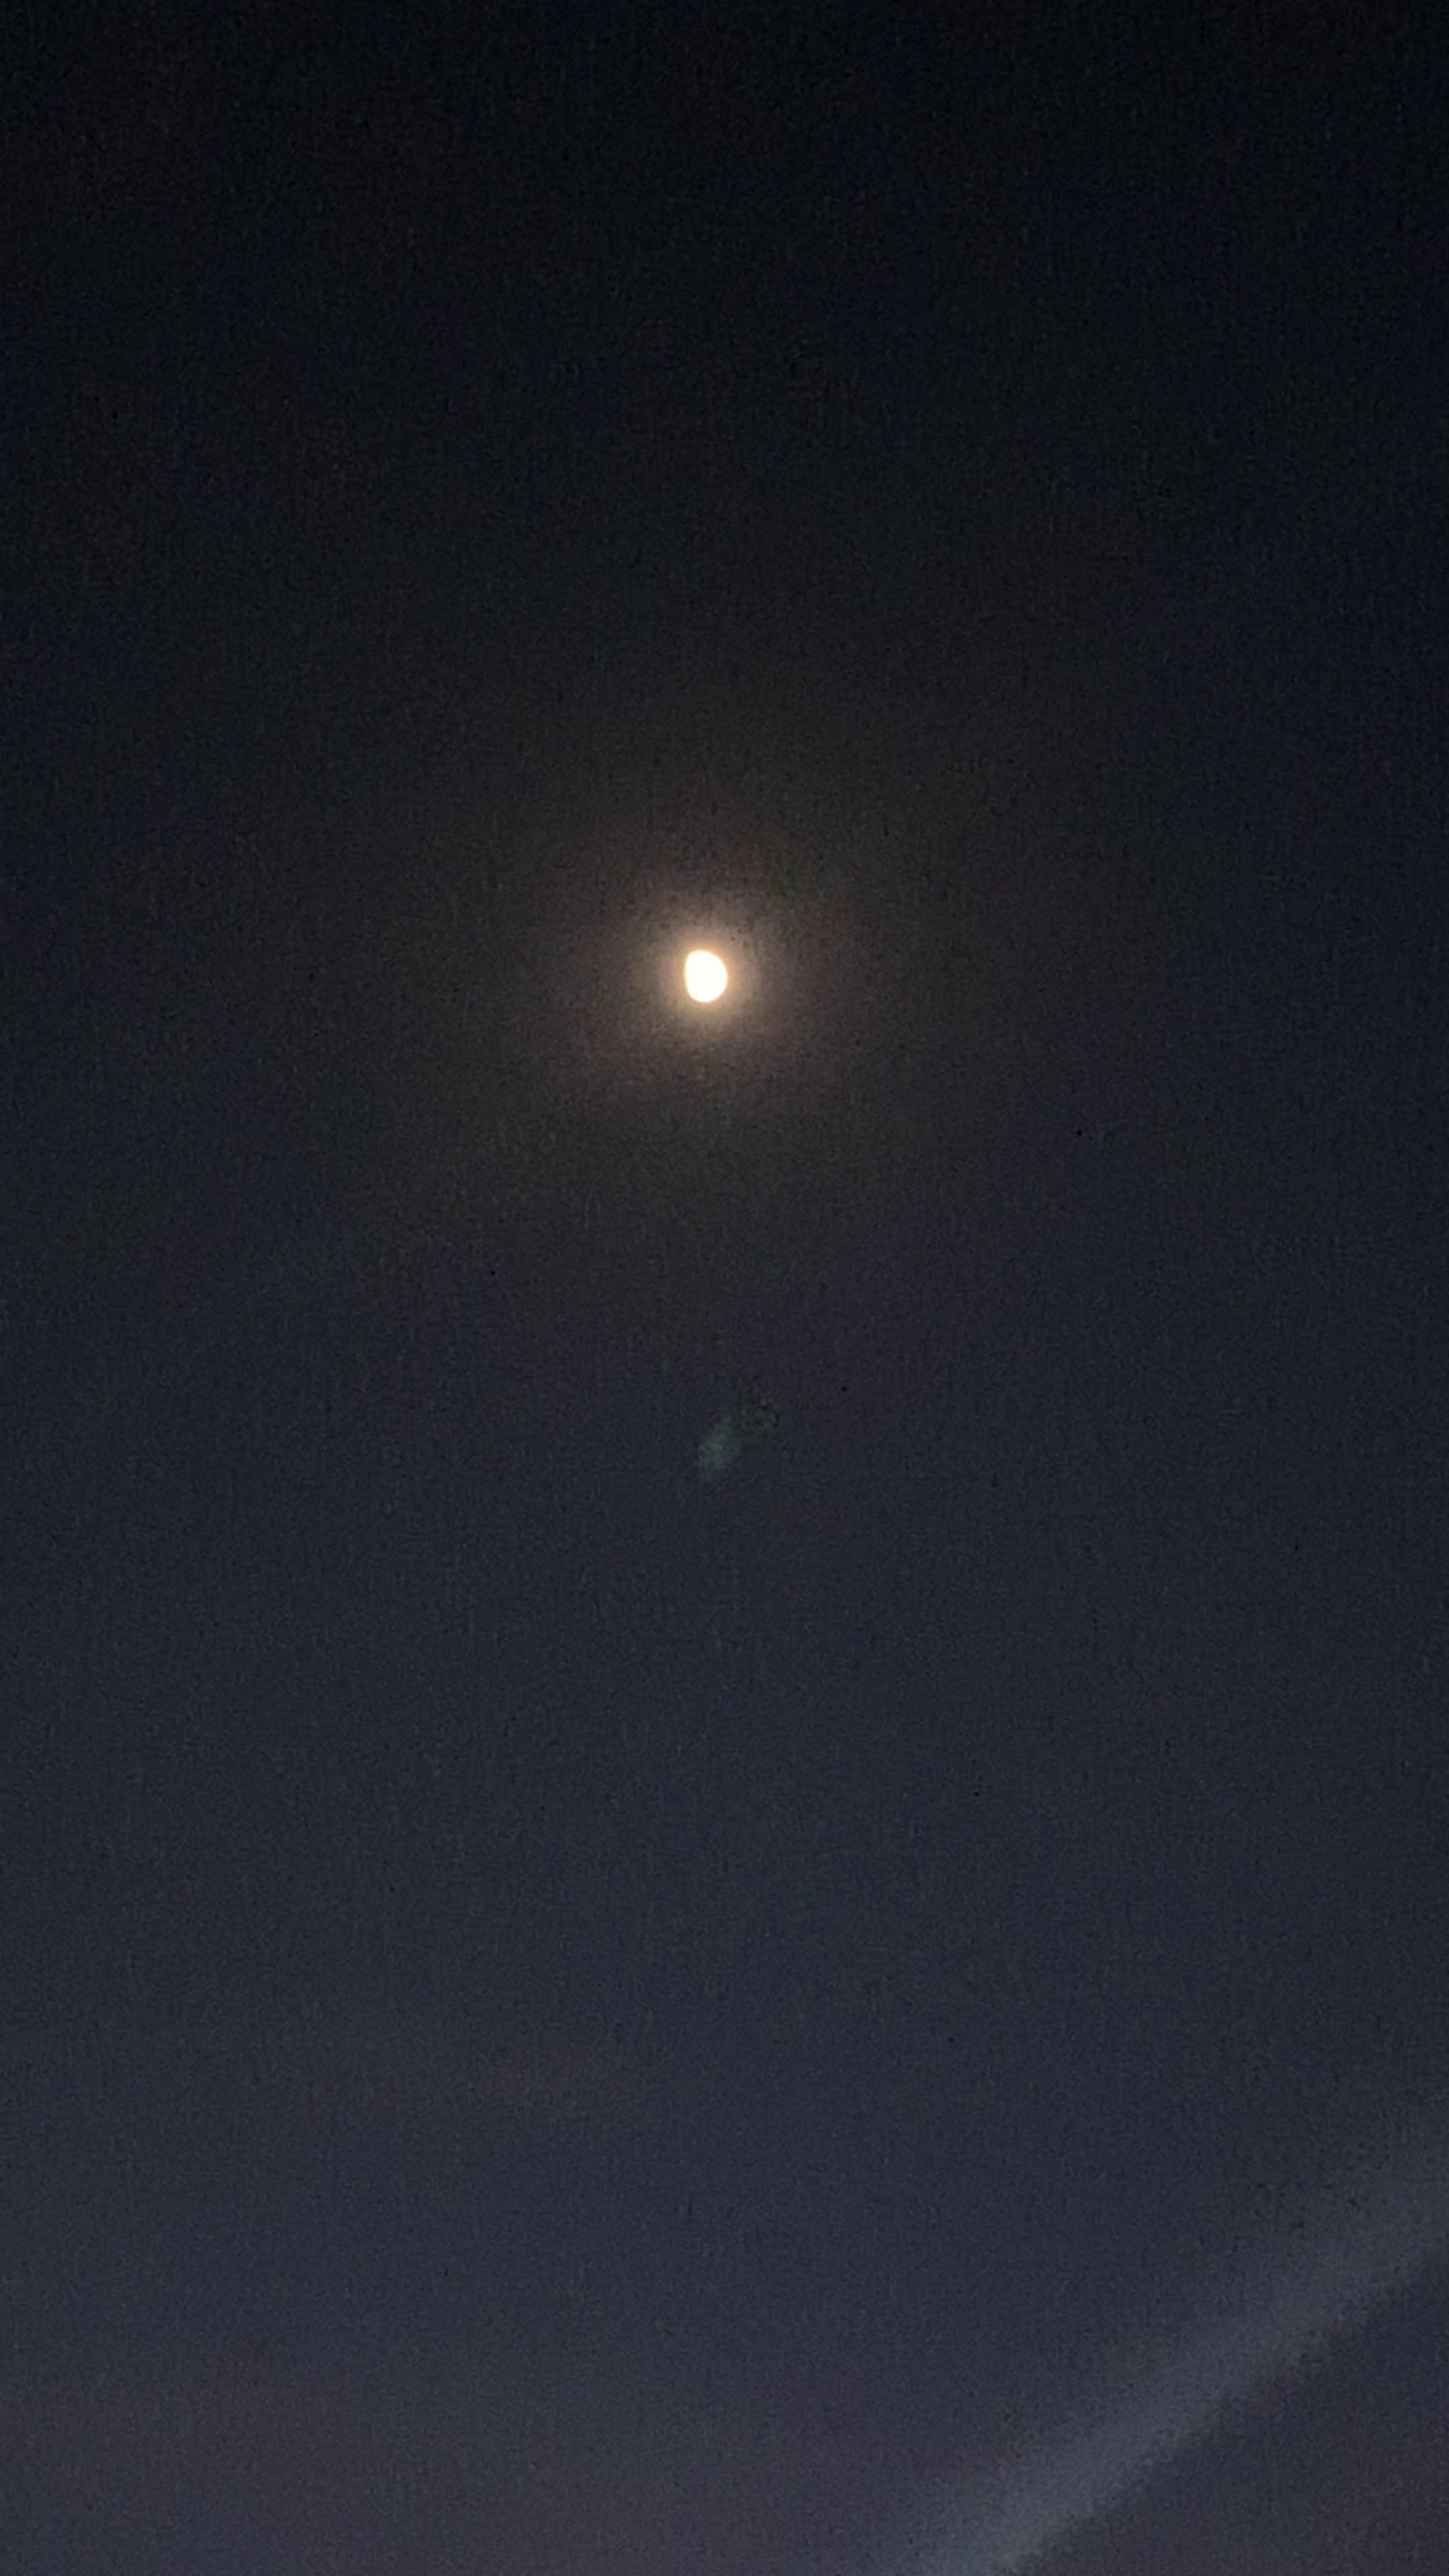moon: (658, 920, 757, 1037)
